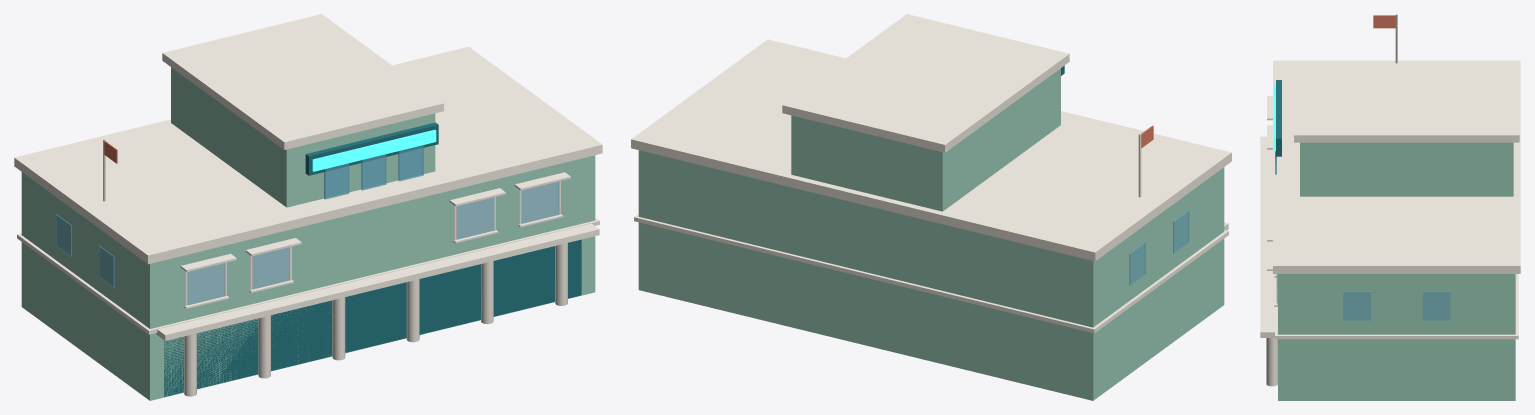
File: deco_hotel_c.glb
3 views of the same model, side by side, from view 1: azimuth 30°, elevation 25°; view 2: azimuth 150°, elevation 25°; view 3: azimuth 270°, elevation 25° (orthographic). The views are drawn at different scales.
Visible parts, largest first — view 1: deco_hotel_c; view 2: deco_hotel_c; view 3: deco_hotel_c.
Part boxes in pixels (box(x1,y1,x2,y2)): deco_hotel_c: box(14, 14, 602, 400); deco_hotel_c: box(631, 14, 1231, 400); deco_hotel_c: box(1260, 14, 1520, 400).
Bounding box in the file's own units: 24.5 × 11.2 × 13.15.
